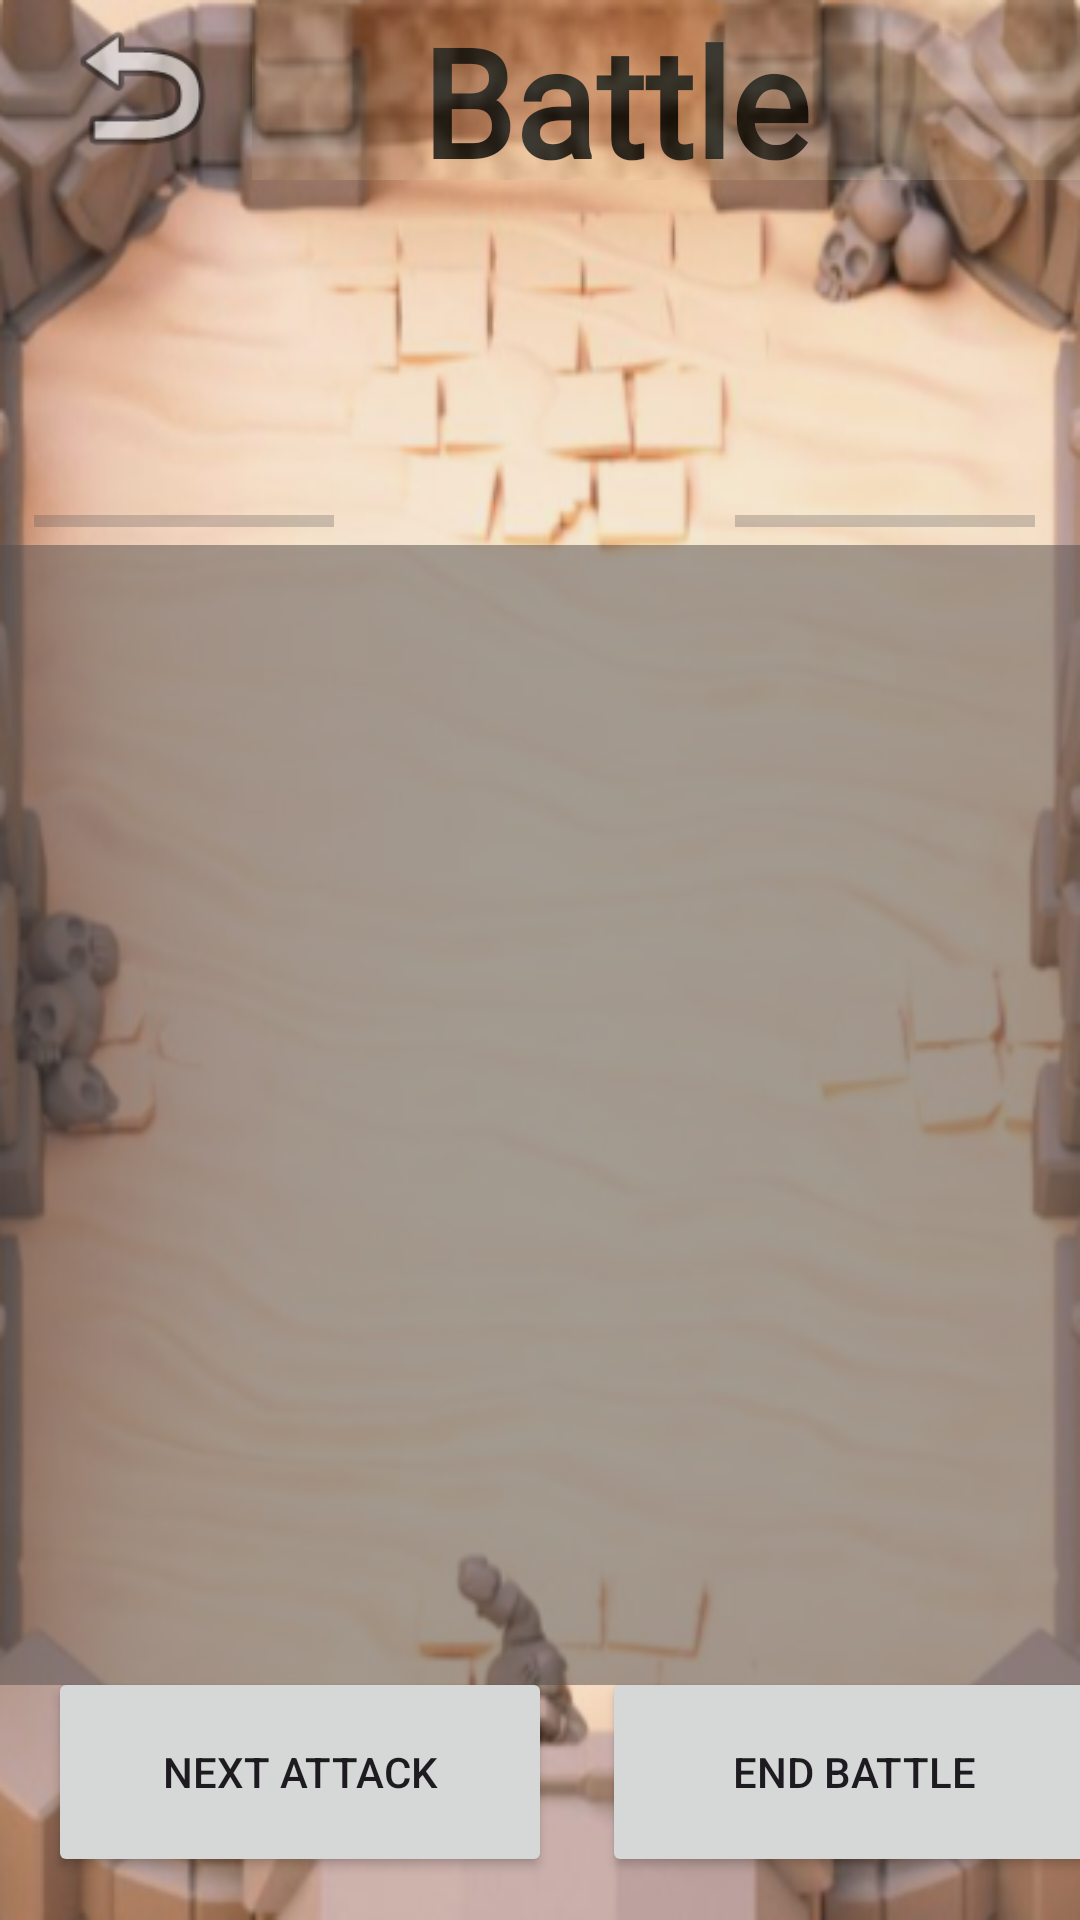

Where icons sit on this 1080px x 1920px app screen, as (x1, y1, x2, y2):
revert: (40, 0, 241, 174)
